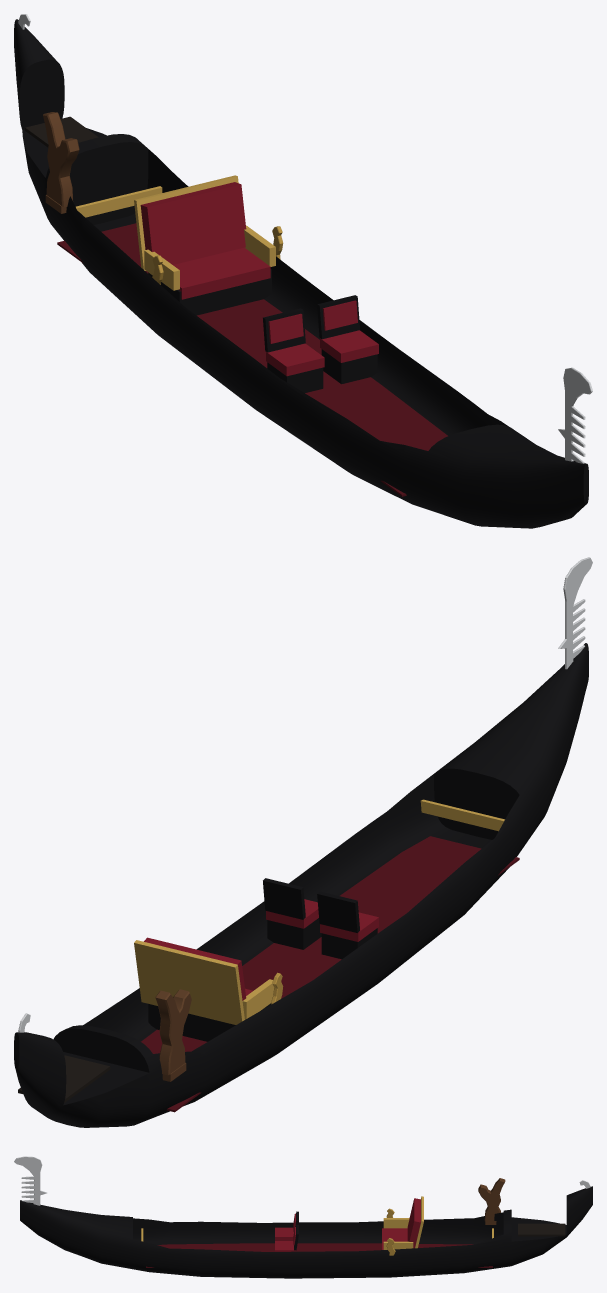
The model's file is gondola.glb.
3 views of the same model, one above another, from view 1: azimuth 30°, elevation 25°; view 2: azimuth 150°, elevation 25°; view 3: azimuth 270°, elevation 25° (orthographic). The views are drawn at different scales.
Visible parts, largest first — view 1: lacquer0, carpet2, velvet5, velvet4, walnut22, lacquer3, steel19, velvet8, velvet12, lacquer13, gilt6, gilt18 (+8 smaller); view 2: lacquer0, carpet2, gilt6, walnut22, steel19, lacquer10, lacquer14, lacquer3, deck1, lacquer13, gilt17, lacquer9 (+2 smaller); view 3: lacquer0, carpet2, steel19, deck1, walnut22, velvet5, velvet4, gilt7_mx, velvet8, velvet12, gilt7.
Part boxes in pixels (left/top/right/bottom): lacquer0: left=14, top=19, right=588, bottom=528; carpet2: left=57, top=223, right=447, bottom=496; velvet5: left=140, top=182, right=246, bottom=264; velvet4: left=173, top=247, right=270, bottom=299; walnut22: left=43, top=112, right=79, bottom=207; lacquer3: left=148, top=269, right=271, bottom=315; steel19: left=558, top=367, right=592, bottom=463; velvet8: left=266, top=343, right=324, bottom=376; velvet12: left=320, top=330, right=378, bottom=362; lacquer13: left=321, top=349, right=377, bottom=384; gilt6: left=134, top=175, right=238, bottom=270; gilt18: left=76, top=186, right=162, bottom=217; lacquer0: left=14, top=643, right=588, bottom=1127; carpet2: left=141, top=836, right=519, bottom=1112; gilt6: left=134, top=940, right=244, bottom=1024; walnut22: left=155, top=989, right=191, bottom=1075; steel19: left=558, top=557, right=592, bottom=669; lacquer10: left=317, top=891, right=359, bottom=932; lacquer14: left=263, top=878, right=305, bottom=919; lacquer3: left=148, top=1003, right=271, bottom=1041; deck1: left=18, top=1055, right=110, bottom=1102; lacquer13: left=267, top=918, right=321, bottom=949; gilt17: left=420, top=799, right=504, bottom=831; lacquer9: left=321, top=928, right=377, bottom=959; lacquer0: left=20, top=1186, right=592, bottom=1278; carpet2: left=146, top=1243, right=492, bottom=1267; steel19: left=14, top=1156, right=47, bottom=1205; deck1: left=518, top=1223, right=565, bottom=1236; walnut22: left=478, top=1178, right=505, bottom=1220; velvet5: left=407, top=1198, right=420, bottom=1248; velvet4: left=382, top=1228, right=407, bottom=1249; gilt7_mx: left=383, top=1218, right=409, bottom=1228; velvet8: left=275, top=1227, right=293, bottom=1240; velvet12: left=275, top=1241, right=295, bottom=1251; gilt7: left=383, top=1241, right=413, bottom=1249.
Bounding box in the file's own units: 1.44 × 2.41 × 11.01.
